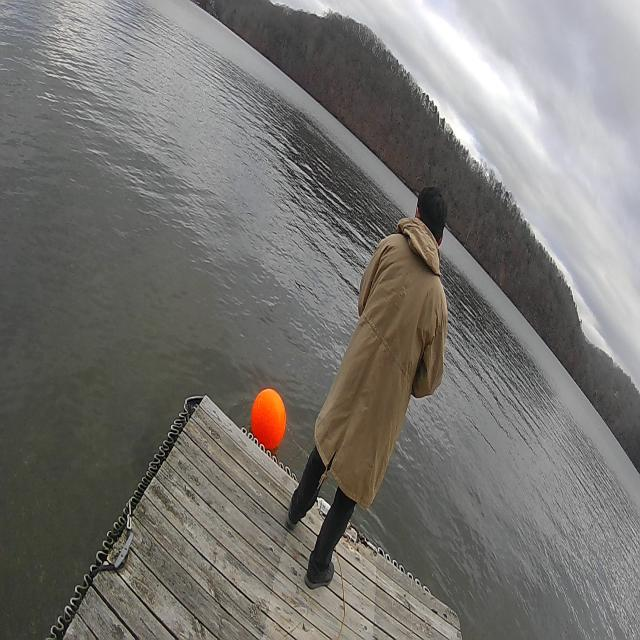Buoy: (250, 384, 288, 452)
